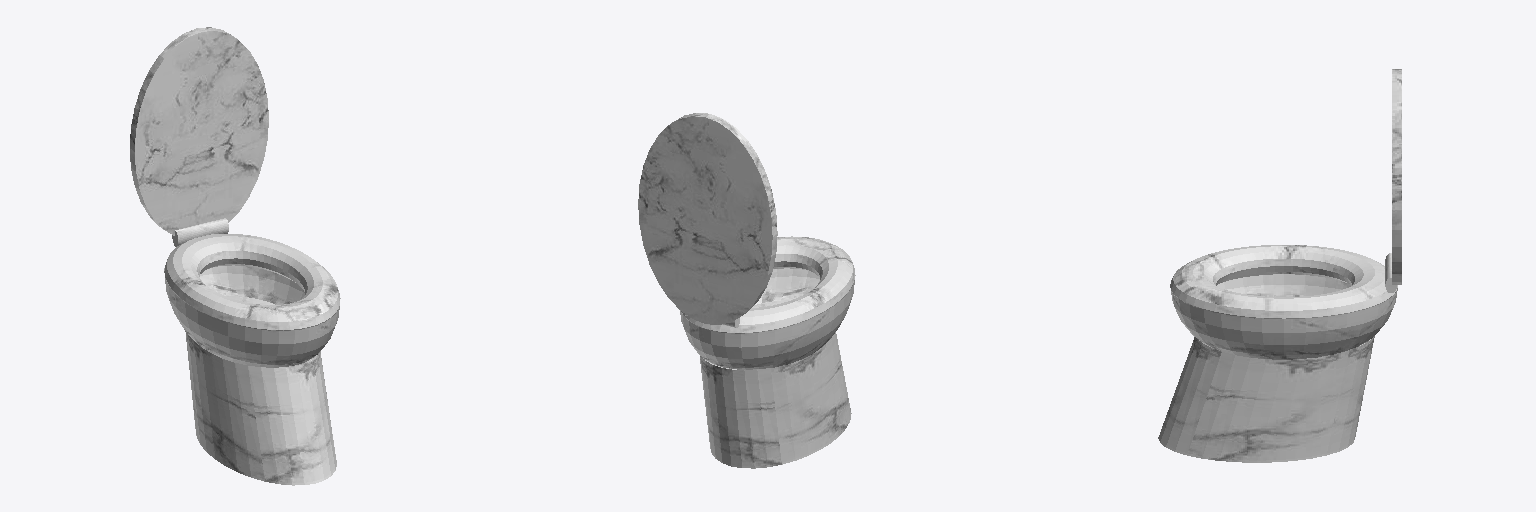
3 renders of one model, left to right at view 1: azimuth 30°, elevation 25°; view 2: azimuth 150°, elevation 25°; view 3: azimuth 270°, elevation 25°, orthographic.
Visible parts, largest first — view 1: Rosca.002; view 2: Rosca.002; view 3: Rosca.002.
Part boxes in pixels (bbox=[...]): Rosca.002: bbox=[130, 27, 340, 485]; Rosca.002: bbox=[638, 113, 855, 468]; Rosca.002: bbox=[1158, 69, 1401, 462].
Size of the model in its own units: 0.5312 by 1.34 by 0.8123.
1 materials, 1 textured.